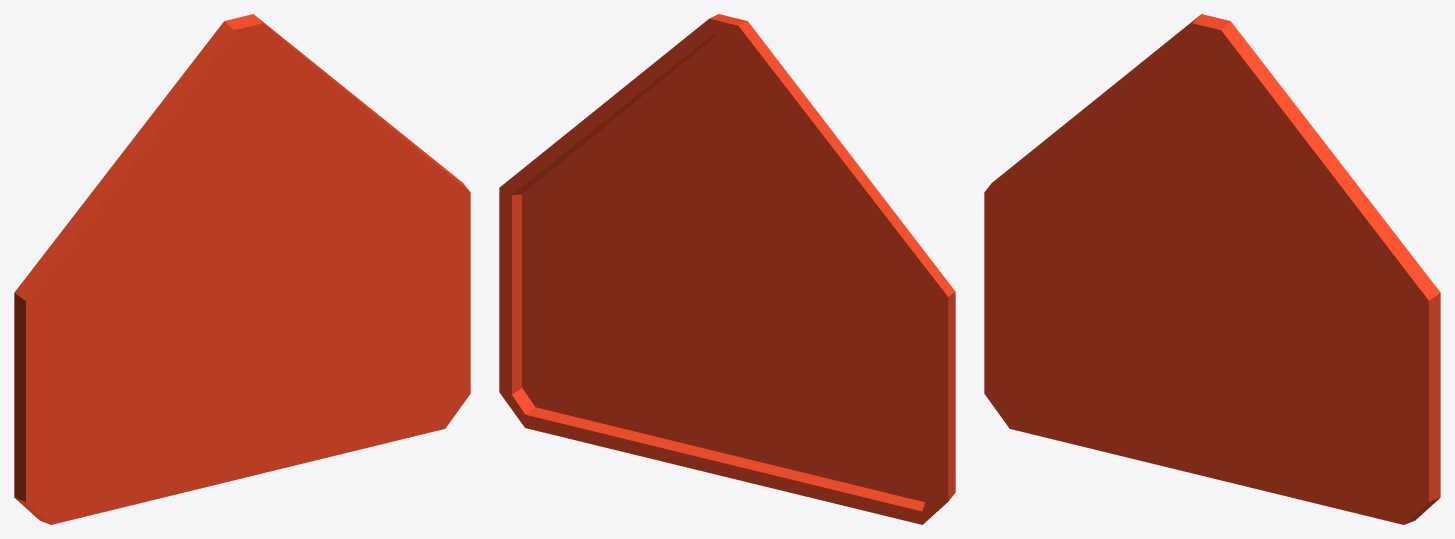
File: SM_Sign_Children_A_City.fbx
The picture shows the model from 3 angles, left to right: view 1: azimuth 30°, elevation 25°; view 2: azimuth 150°, elevation 25°; view 3: azimuth 330°, elevation 25°; orthographic projection.
Visible parts, largest first — view 1: SM_Sign_Children_A_City; view 2: SM_Sign_Children_A_City; view 3: SM_Sign_Children_A_City.
Boxes of the visible parts, left/top/right/bottom form: SM_Sign_Children_A_City: left=14, top=14, right=470, bottom=524; SM_Sign_Children_A_City: left=499, top=14, right=955, bottom=524; SM_Sign_Children_A_City: left=984, top=14, right=1440, bottom=524.
Size of the model in its own units: 0.9146 by 0.8849 by 0.0334.
